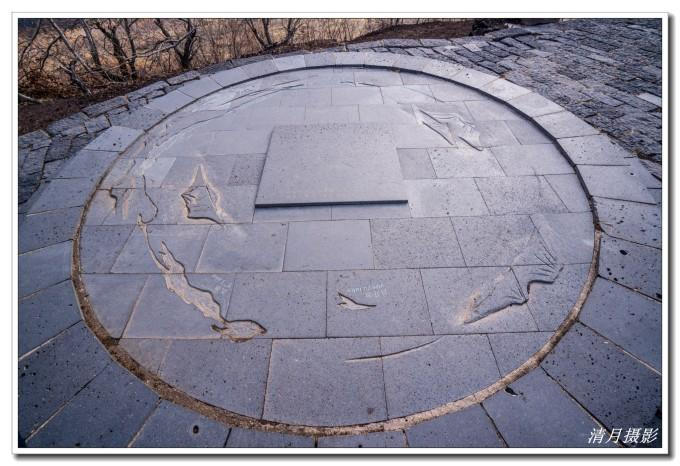wellcover: (68, 61, 605, 435)
